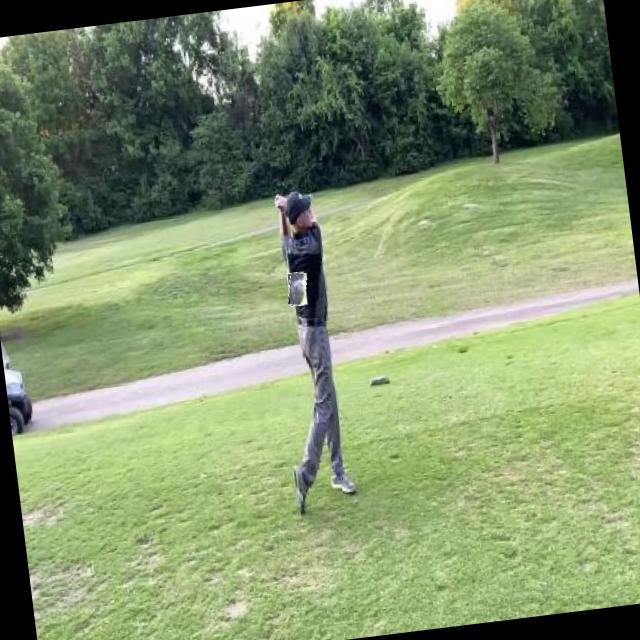club head: (286, 270, 308, 306)
